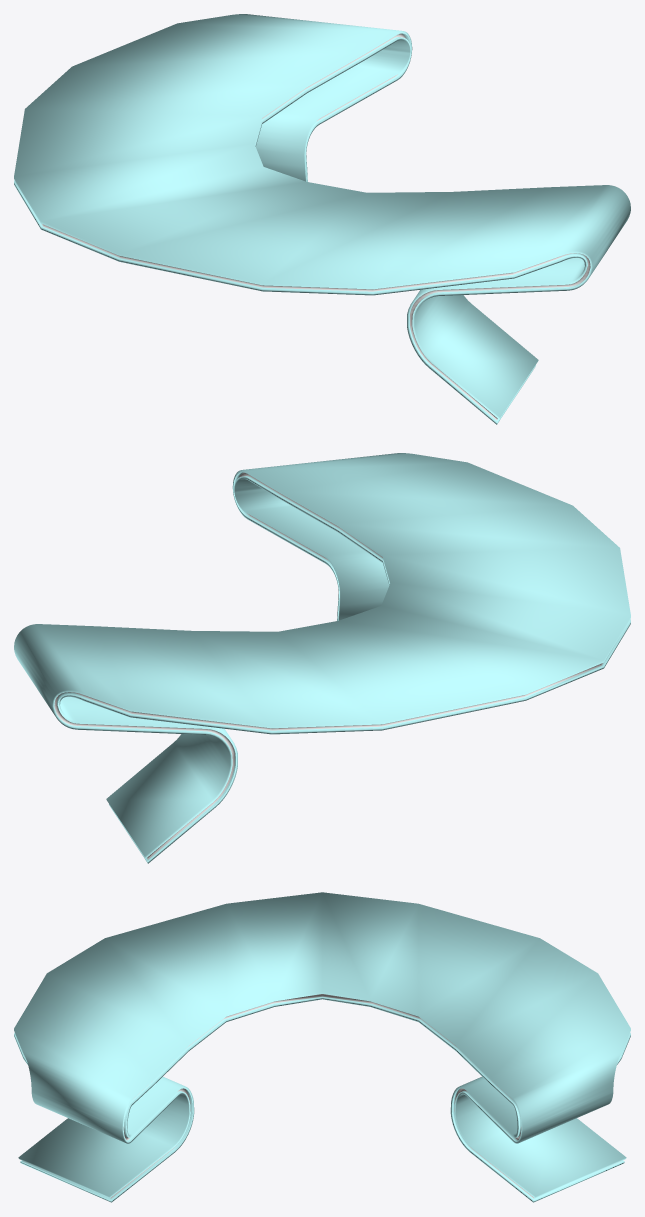
Rendered from table with sclae.fbx.
3 renders of one model, top to bottom at view 1: azimuth 30°, elevation 25°; view 2: azimuth 150°, elevation 25°; view 3: azimuth 270°, elevation 25°, orthographic. The views are drawn at different scales.
Parts seen in each view (by area): view 1: Plane; view 2: Plane; view 3: Plane.
Part boxes in pixels (box(x1,y1,x2,y2)): Plane: box(14, 14, 630, 424); Plane: box(14, 453, 630, 863); Plane: box(14, 892, 630, 1202).
Bounding box in the file's own units: 328 × 101 × 398.
